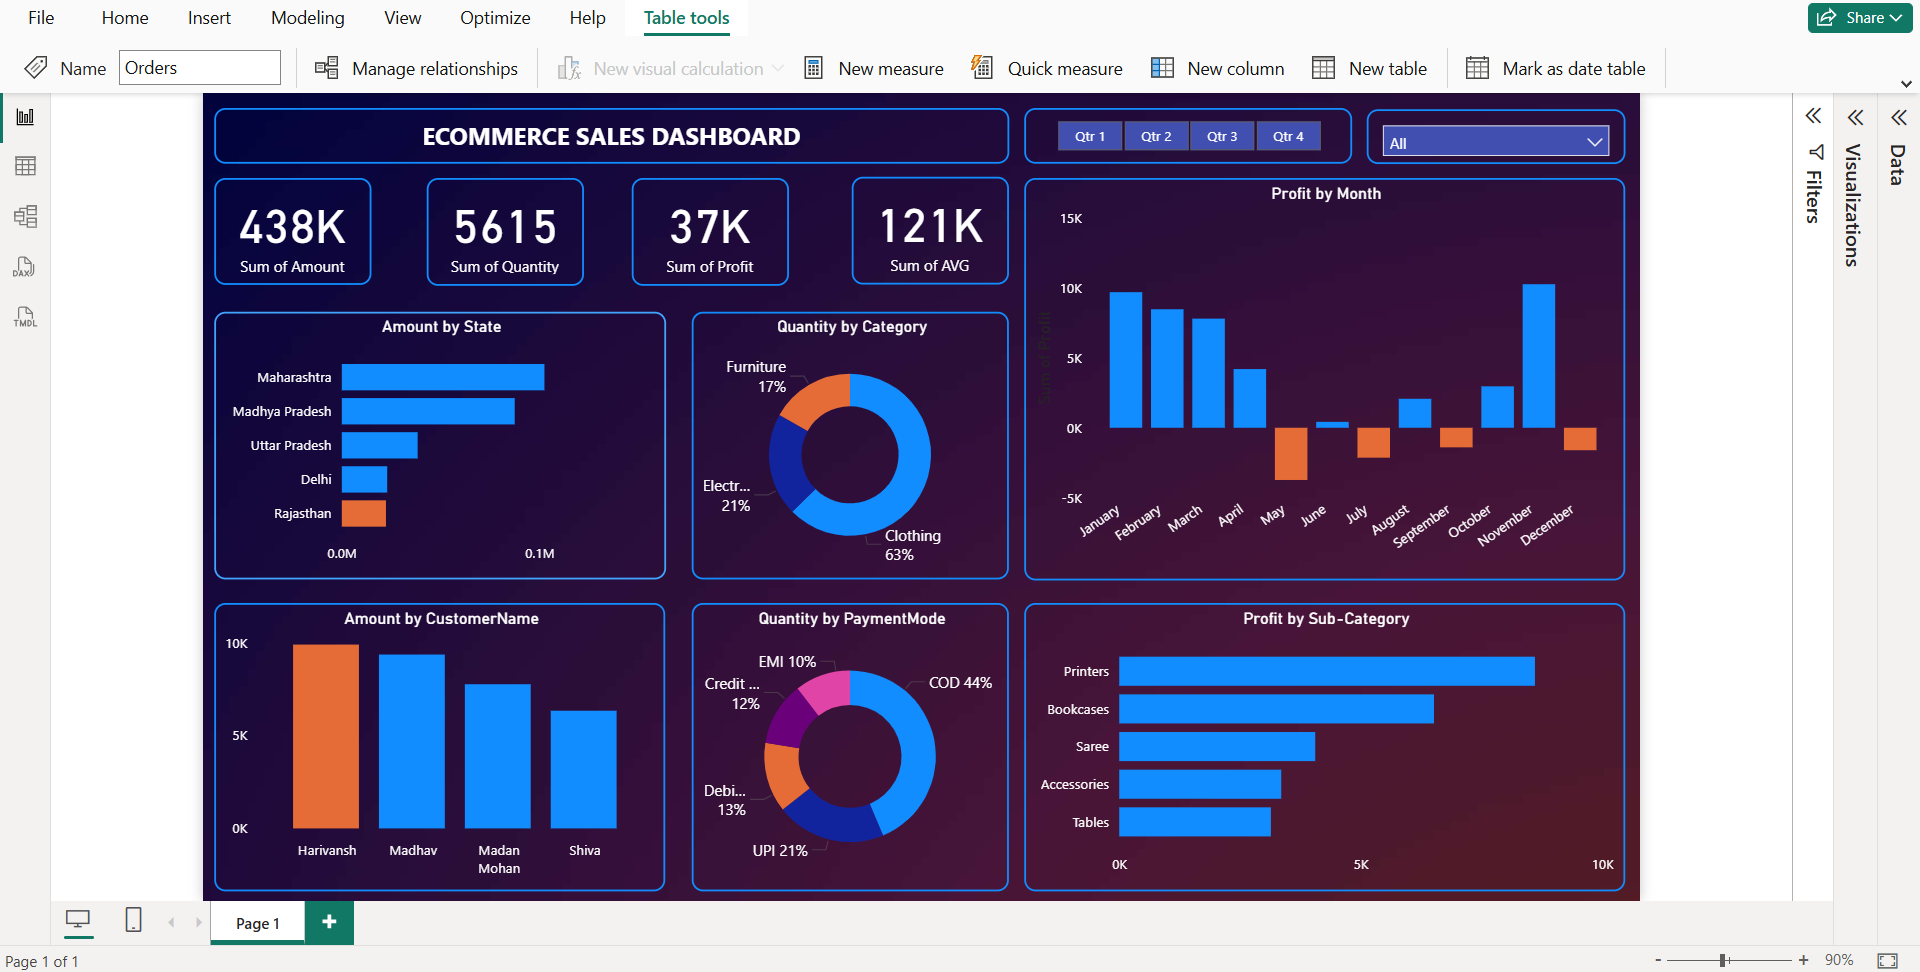

The dashboard page shown, as its layout file describes it:
{"tool":"powerbi","page":{"name":"Page 1","canvas":[1280,720],"ordinal":0},"visuals":[{"type":"textbox","box":[9.6,13.7,708.1,49.4],"z":0},{"type":"columnChart","title":"Profit by Month","fields":{"Category":["Orders.Order Date.Variation.Date Hierarchy.Month"],"Y":["Details.Profit"]},"box":[731.4,75.5,535.2,358.1],"z":1000},{"type":"barChart","title":"Profit by Sub-Category","fields":{"Category":["Details.Sub-Category"],"Y":["Details.Profit"]},"box":[731.4,454.2,535.2,256.6],"z":2000},{"type":"donutChart","title":"Quantity by Category","fields":{"Category":["Details.Category"],"Y":["Details.Quantity"]},"box":[435,194.9,282.7,238.8],"z":3000},{"type":"donutChart","title":"Quantity by PaymentMode","fields":{"Y":["Details.Quantity"],"Category":["Details.PaymentMode"]},"box":[435.3,454.2,282.7,257.1],"z":4000},{"type":"card","fields":{"Values":["Details.Amount"]},"box":[9.7,76,139.9,95.3],"z":5000},{"type":"card","fields":{"Values":["Details.Quantity"]},"box":[199,75.5,140,96.1],"z":6000},{"type":"card","fields":{"Values":["Details.Profit"]},"box":[381.5,75.5,140,96.1],"z":7000},{"type":"card","fields":{"Values":["Details.AVG"]},"box":[577.7,74.1,140,96.1],"z":8000},{"type":"barChart","title":"Amount by State","fields":{"Category":["Orders.State"],"Y":["Details.Amount"]},"box":[9.6,194.9,402.1,238.8],"z":9000},{"type":"columnChart","title":"Amount by CustomerName","fields":{"Category":["Orders.CustomerName"],"Y":["Details.Amount"]},"box":[10,454.2,401.9,257.1],"z":10000},{"type":"slicer","fields":{"Values":["Orders.Order Date.Variation.Date Hierarchy.Quarter"]},"box":[731.4,13.7,292.3,49.4],"z":11000},{"type":"slicer","fields":{"Values":["Orders.State"]},"box":[1036,14,230.2,48.8],"z":12000}]}

Visuals, with their boxes on the page's 1280x720 design canvas (x1, y1, x2, y2). These are canvas units, not pixel positions in the 1920x972 screenshot, which may show the page scaled, cropped or inside an application window:
textbox: (x1=10, y1=14, x2=718, y2=63)
"Profit by Month" columnChart: (x1=731, y1=76, x2=1267, y2=434)
"Profit by Sub-Category" barChart: (x1=731, y1=454, x2=1267, y2=711)
"Quantity by Category" donutChart: (x1=435, y1=195, x2=718, y2=434)
"Quantity by PaymentMode" donutChart: (x1=435, y1=454, x2=718, y2=711)
card - Details.Amount: (x1=10, y1=76, x2=150, y2=171)
card - Details.Quantity: (x1=199, y1=76, x2=339, y2=172)
card - Details.Profit: (x1=382, y1=76, x2=522, y2=172)
card - Details.AVG: (x1=578, y1=74, x2=718, y2=170)
"Amount by State" barChart: (x1=10, y1=195, x2=412, y2=434)
"Amount by CustomerName" columnChart: (x1=10, y1=454, x2=412, y2=711)
slicer - Orders.Order Date.Variation.Date Hierarchy.Quarter: (x1=731, y1=14, x2=1024, y2=63)
slicer - Orders.State: (x1=1036, y1=14, x2=1266, y2=63)
